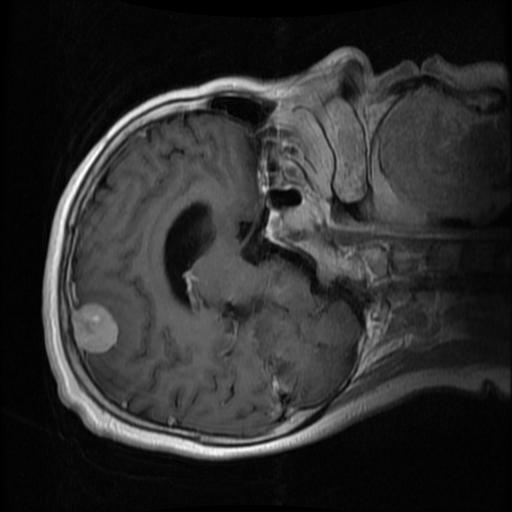meningioma: (70, 302, 119, 354)
